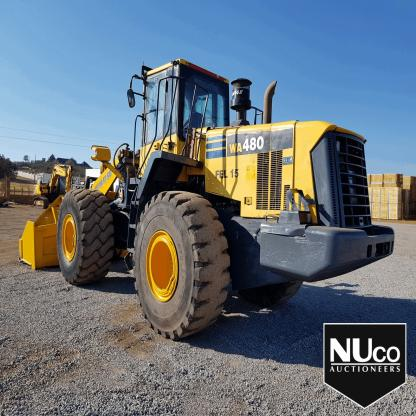bull_dozer/loader/grader: (19, 56, 396, 340)
